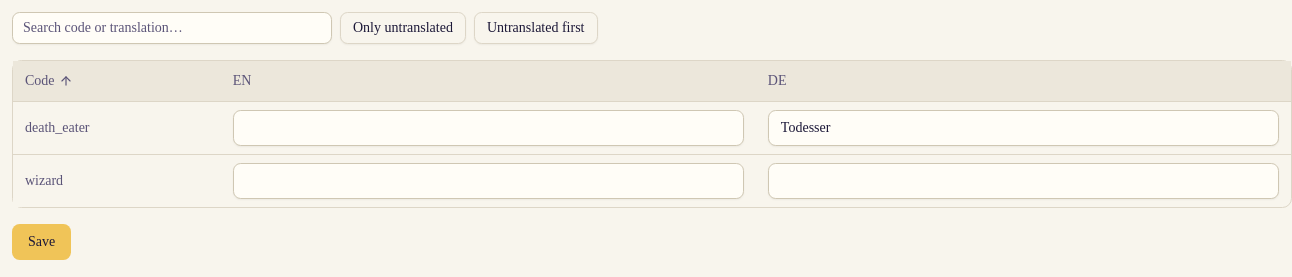
SubTypeTranslationsForm › clears the search via the clear button (shown only with a query)
The image size is (1292, 277).
Type "wiz" into the field with placeholder "Search code or translation…" at [172, 28], box [12,12,332,44]
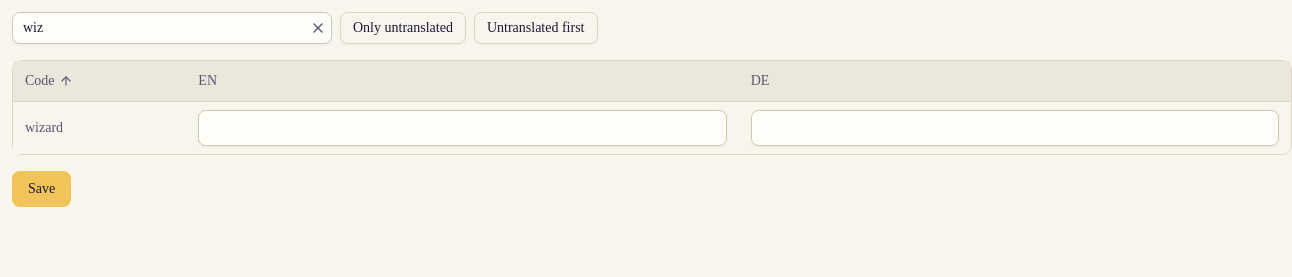
Expected: the text "death_eater" is gone
Click the button named "clear search" at [318, 28], box [310,20,326,36]
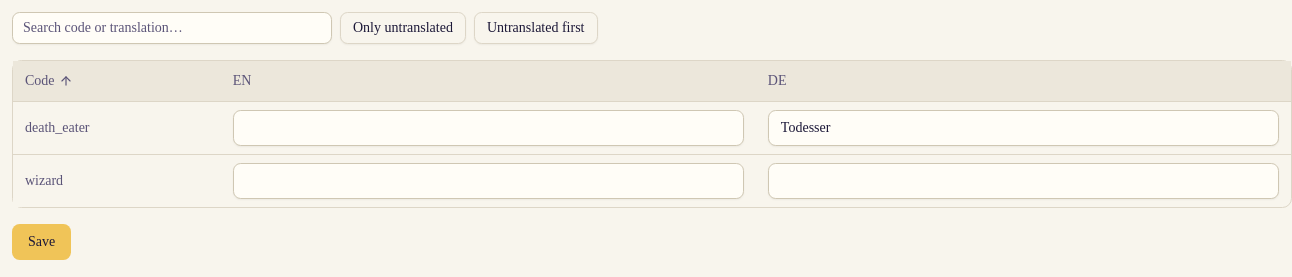
Expected: the field with placeholder "Search code or translation…" is empty, [12,12,332,44]
Expected: the text "death_eater" is shown, [13,101,221,154]
